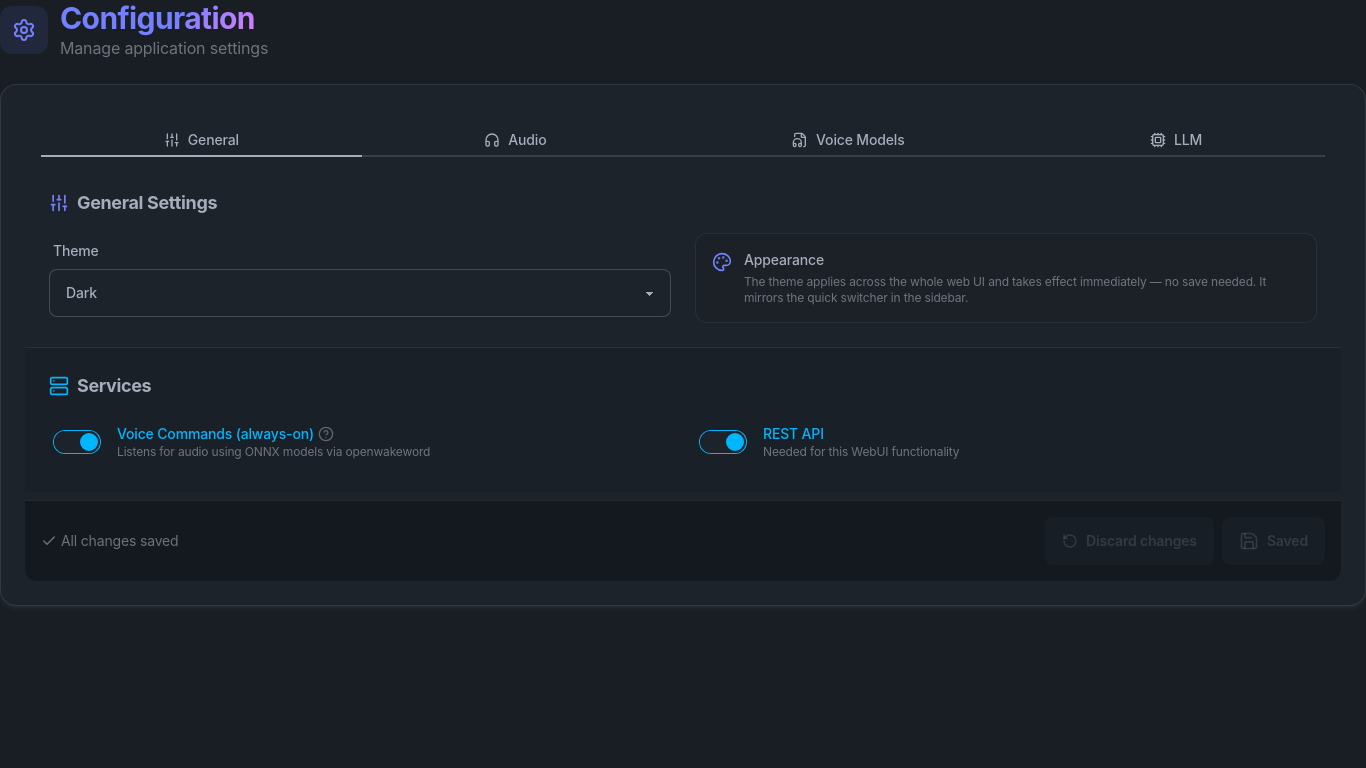
Test: ConfigurationPage dirty-state + save › a successful save shows a success toast and clears the dirty flag
Expected: the button with test id "save-button" is disabled, 1222,517 -> 1325,565
Select "Light" in the dropdown labelled "Theme". click: (360, 293)
box: 49,269 -> 671,317
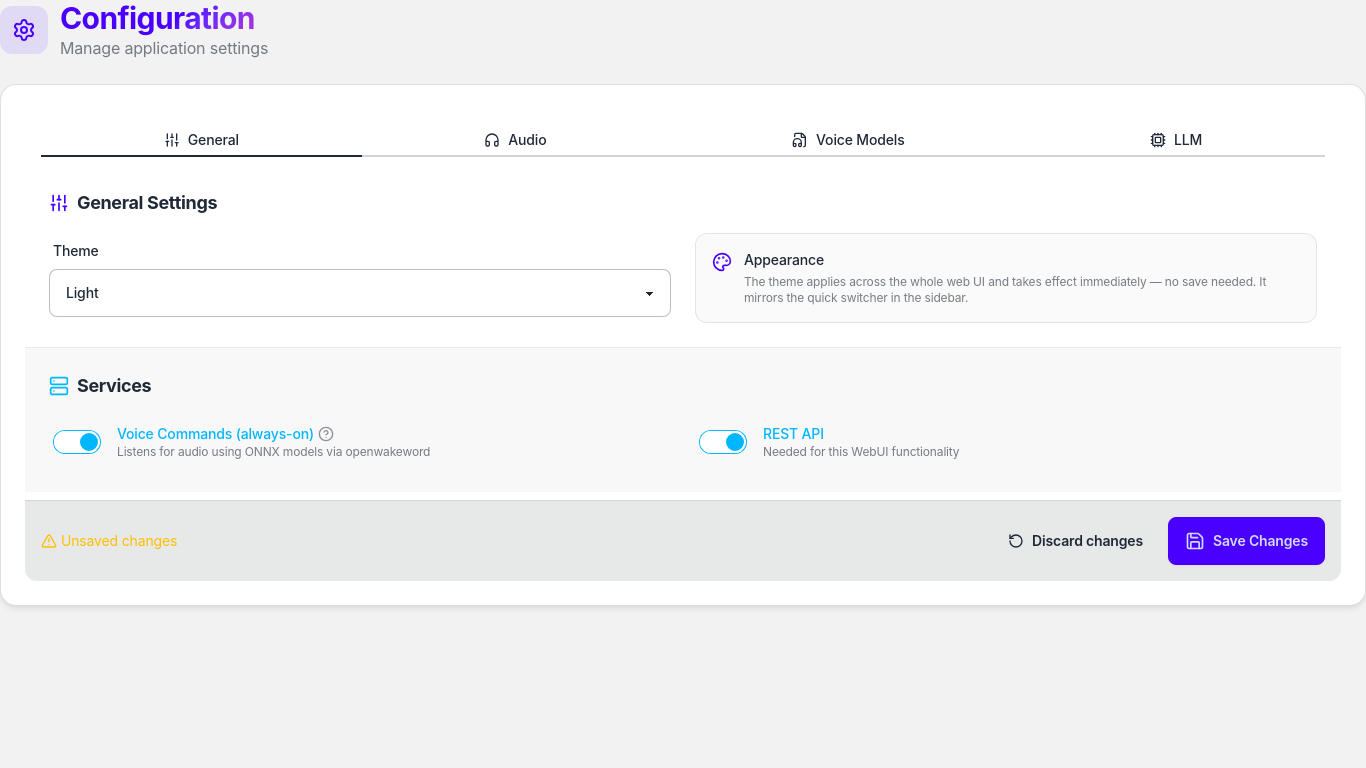
Click the button with test id "save-button". click: (1246, 541)
box: 1168,517 -> 1325,565
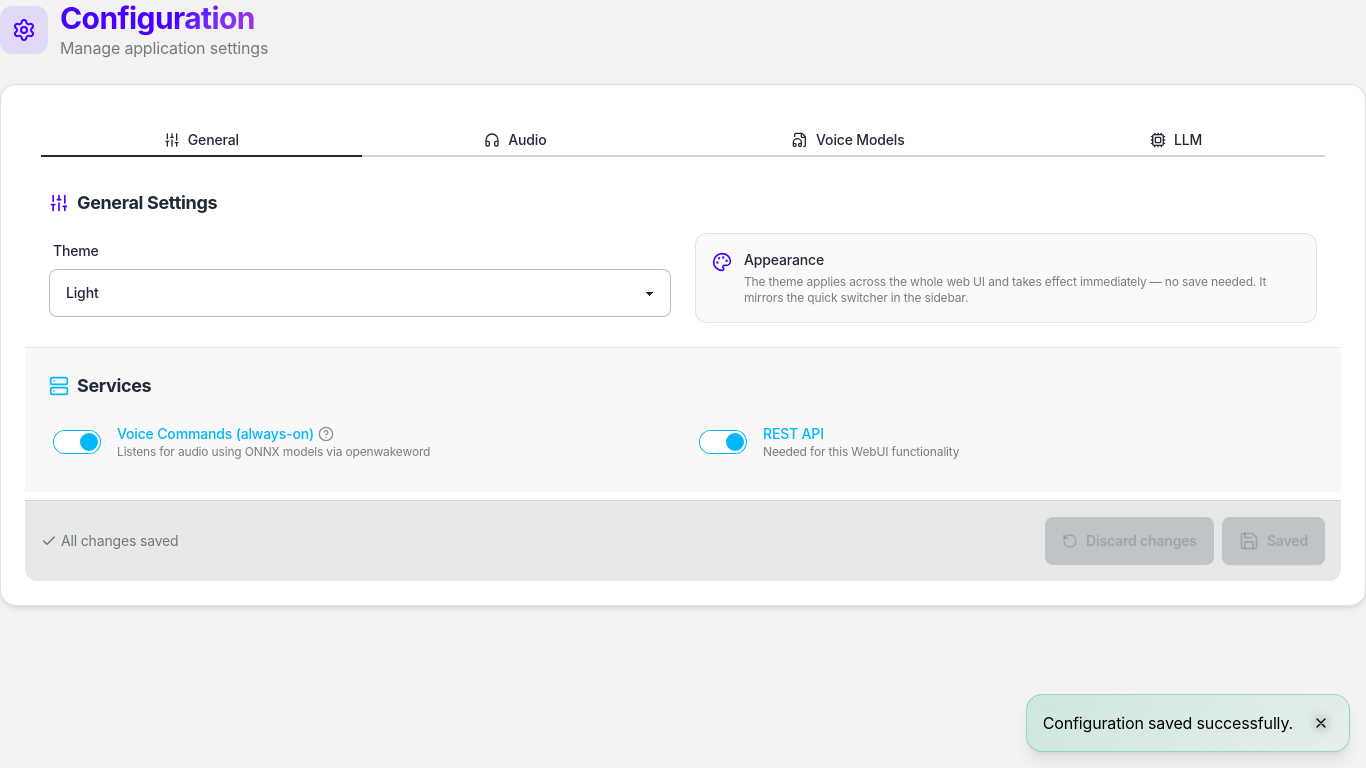
Result: the text "Configuration saved successfully." is shown at 1043,711 -> 1293,735
Result: the button with test id "save-button" is disabled at 1222,517 -> 1325,565
